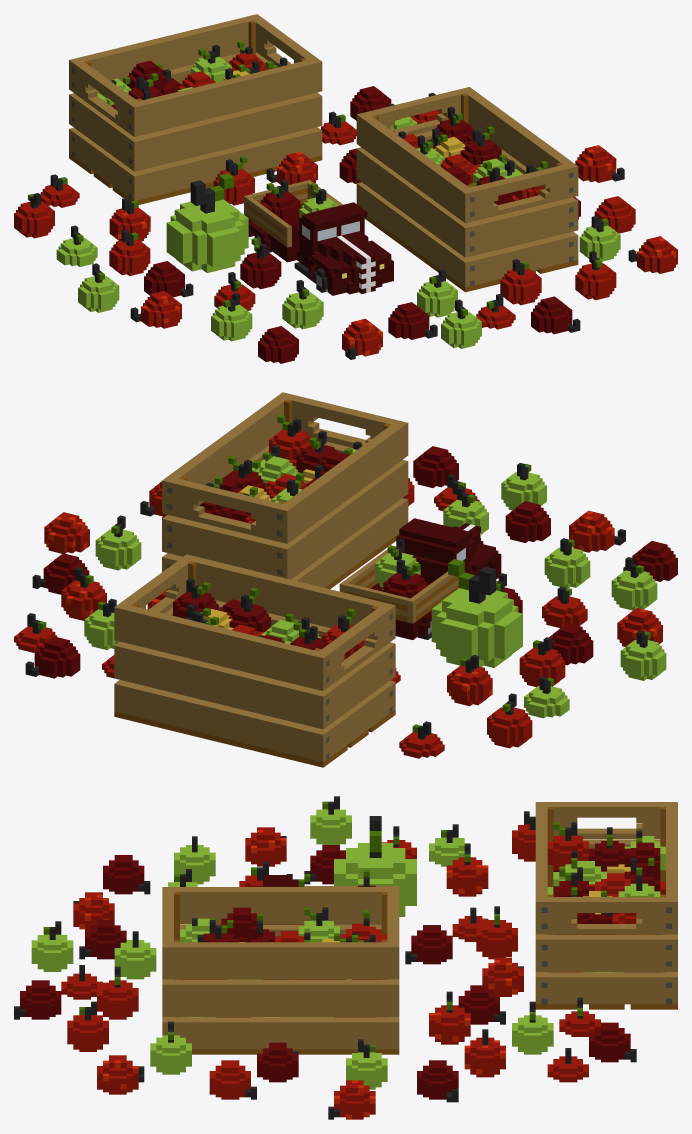
The model's file is apples-1.obj.
The picture shows the model from 3 angles, top to bottom: view 1: azimuth 30°, elevation 25°; view 2: azimuth 150°, elevation 25°; view 3: azimuth 270°, elevation 25°; orthographic projection. The views are drawn at different scales.
Parts seen in each view (by area): view 1: apples-1; view 2: apples-1; view 3: apples-1.
Part boxes in pixels (<box>): apples-1: <box>14,14,677,363</box>; apples-1: <box>14,392,677,767</box>; apples-1: <box>14,796,677,1119</box>.
Bounding box in the file's own units: 115 × 20 × 112.
1 material, 1 textured.
